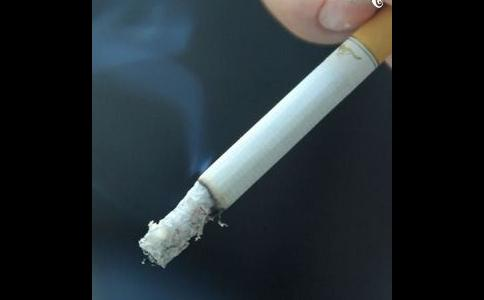Cigarette: (139, 6, 392, 264)
